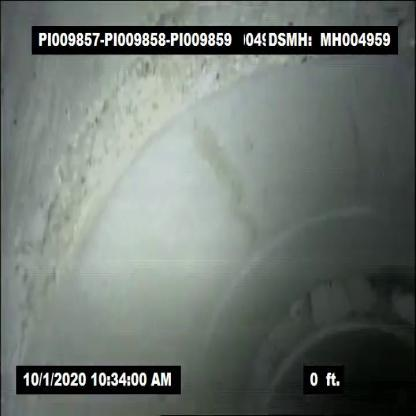crack: (185, 128, 263, 246)
jntoffs: (254, 264, 416, 365)
